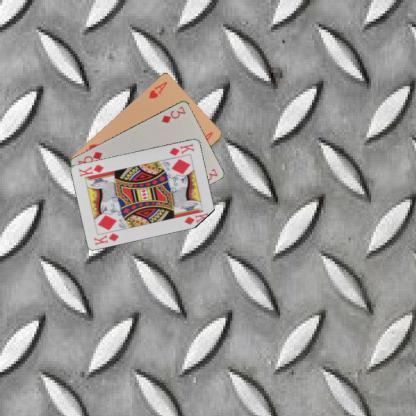3d: (158, 104, 187, 125)
Ah: (146, 78, 168, 100)
Kd: (166, 140, 196, 156), (91, 230, 120, 246)
